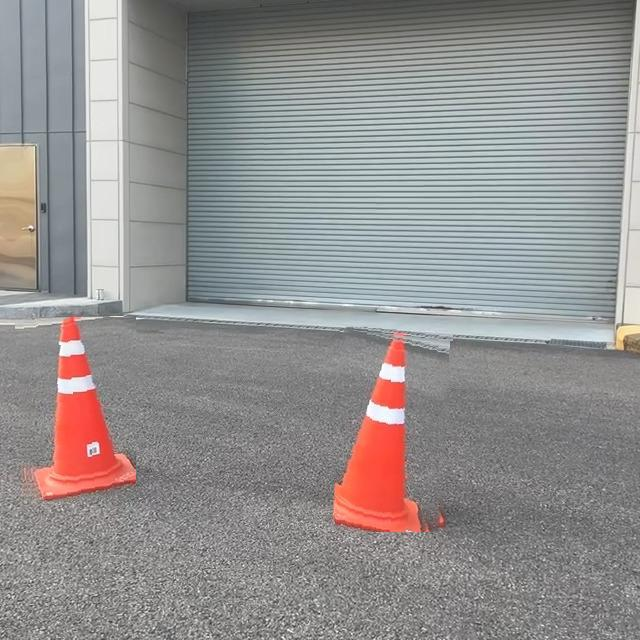fallen_object: (319, 302, 491, 573), (12, 313, 155, 512)
